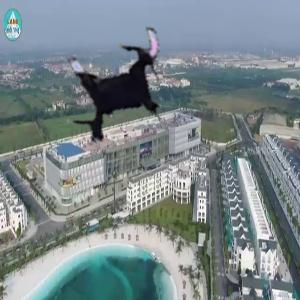drone: (45, 14, 186, 155)
